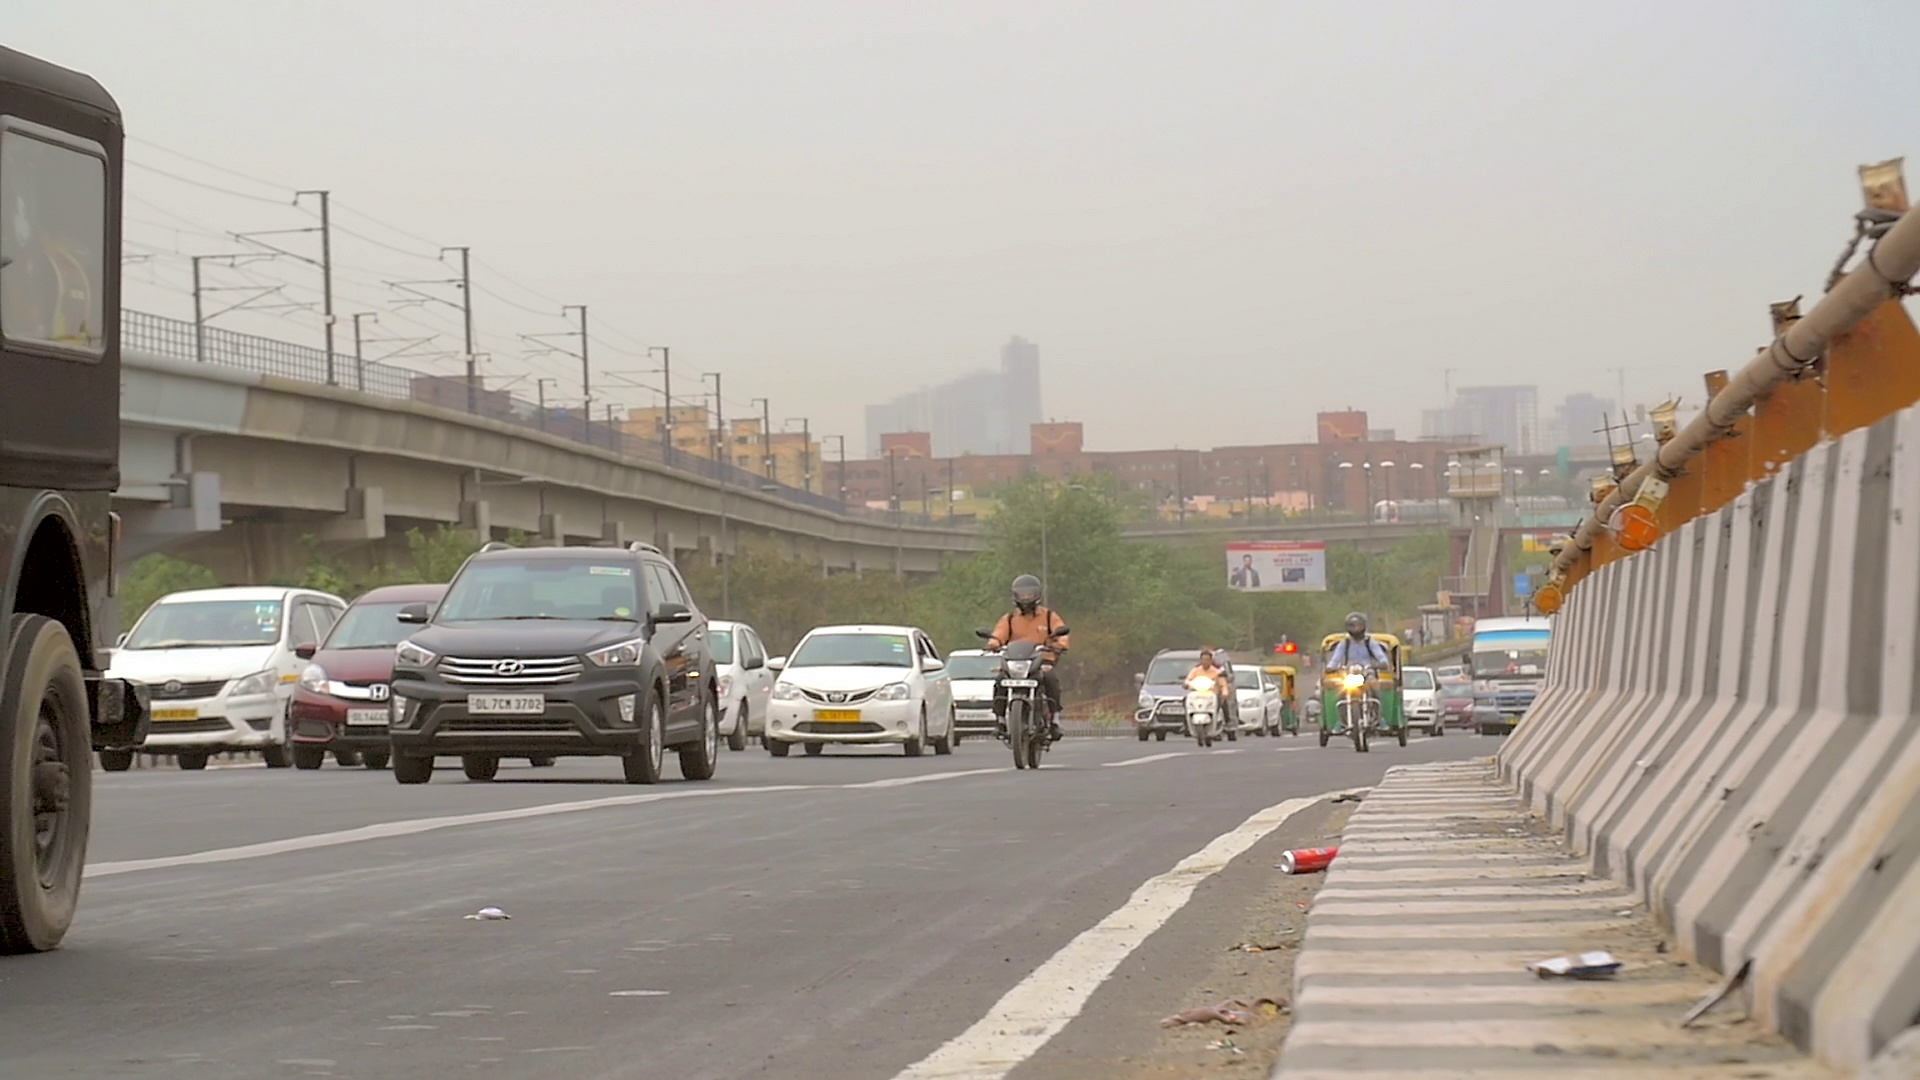bike: (992, 568, 1073, 775), (1327, 615, 1393, 760), (1185, 650, 1232, 752)
car: (392, 547, 738, 793), (133, 582, 301, 769), (769, 615, 967, 765)
